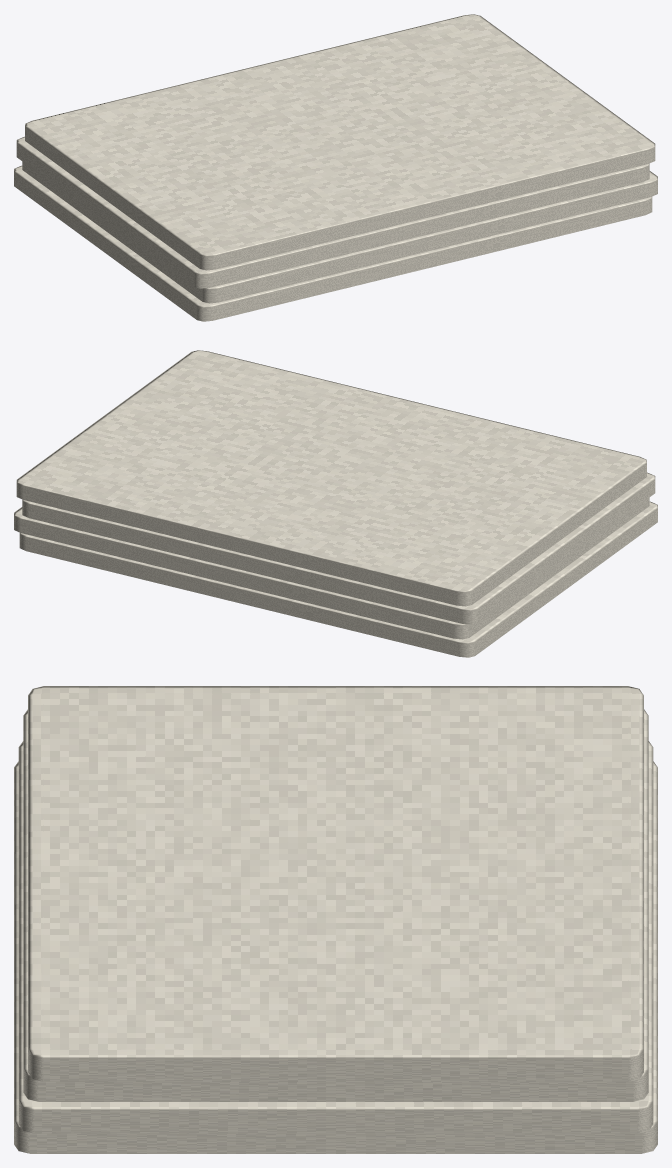
Rendered from sheets.glb.
3 renders of one model, top to bottom at view 1: azimuth 30°, elevation 25°; view 2: azimuth 150°, elevation 25°; view 3: azimuth 270°, elevation 25°, orthographic. The views are drawn at different scales.
Visible parts, largest first — view 1: fold (×4); view 2: fold (×4); view 3: fold (×4).
Boxes of the visible parts, x1,y1,x2,y2 form: fold (×4): [14, 14, 657, 321]; fold (×4): [14, 350, 657, 657]; fold (×4): [14, 686, 657, 1153].
Bounding box in the file's own units: 0.4531 × 0.0574 × 0.3264.
Materials: 1 (1 with a texture image).
